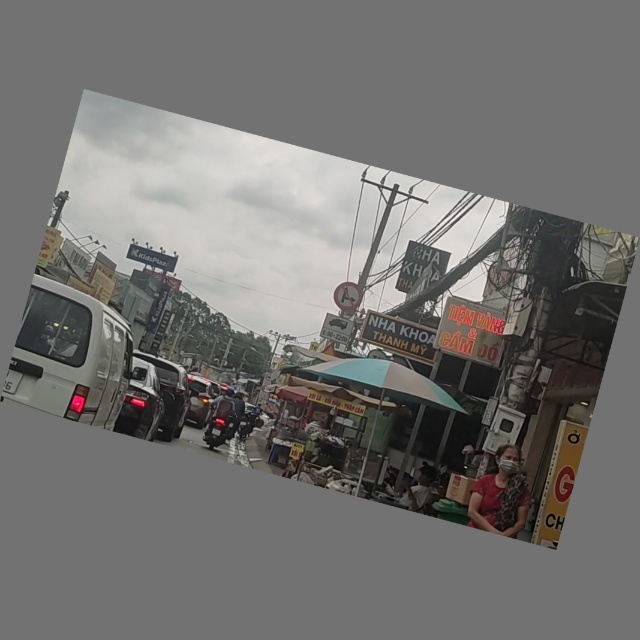P.139: (331, 280, 366, 313)
S.505a*Xe tai: (320, 315, 354, 346)
